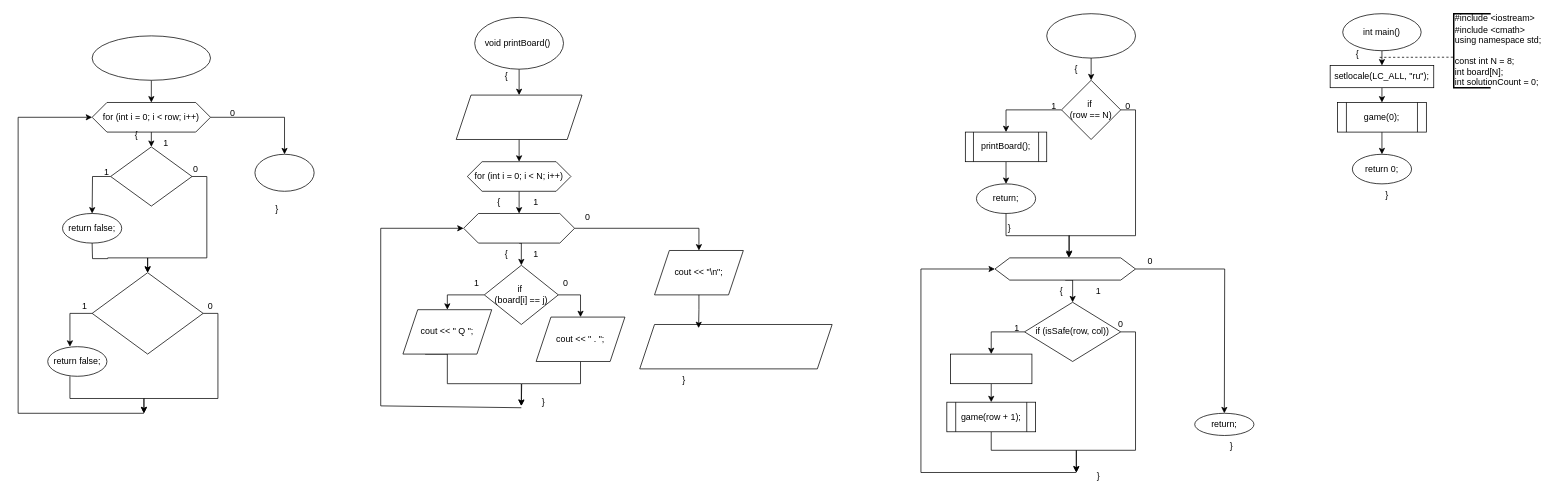
The diagram is 1555 pixels wide and 500 high, and some of its shapes have lost their labels. Here are the shapes that lost their labels. From the top down, the centre of each, then its label:
pixel 1091 35: void game(int row)
pixel 151 57: bool isSafe(int row, int col)
pixel 518 116: cout << "\nРешение #" << ++solutionCount << "\n\n";
pixel 151 176: if (board[i] == col)
pixel 284 172: return true;
pixel 519 228: for (int j = 0; j < N; j++)
pixel 1065 268: for (int col = 0; col < N; col++)
pixel 147 313: if (abs(board[i] - col) == abs(i - row))
pixel 735 346: cout << "\n----------------------------------------\n";
pixel 991 368: board[row] = col;
